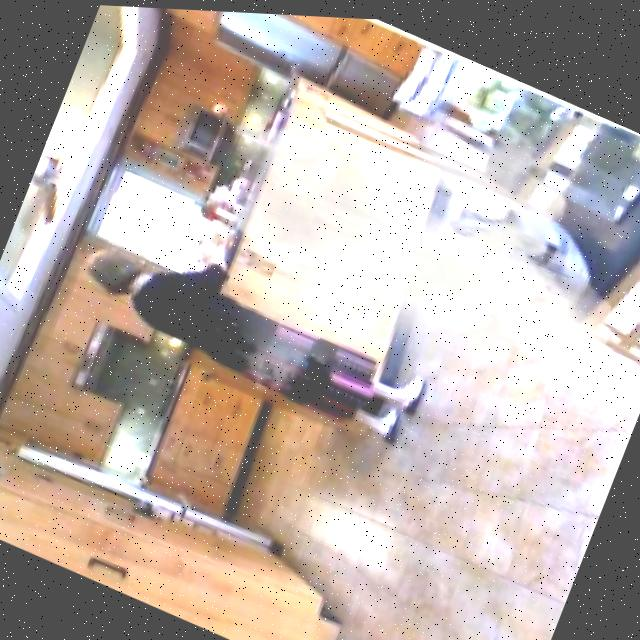Smoke: (153, 14, 640, 510)
